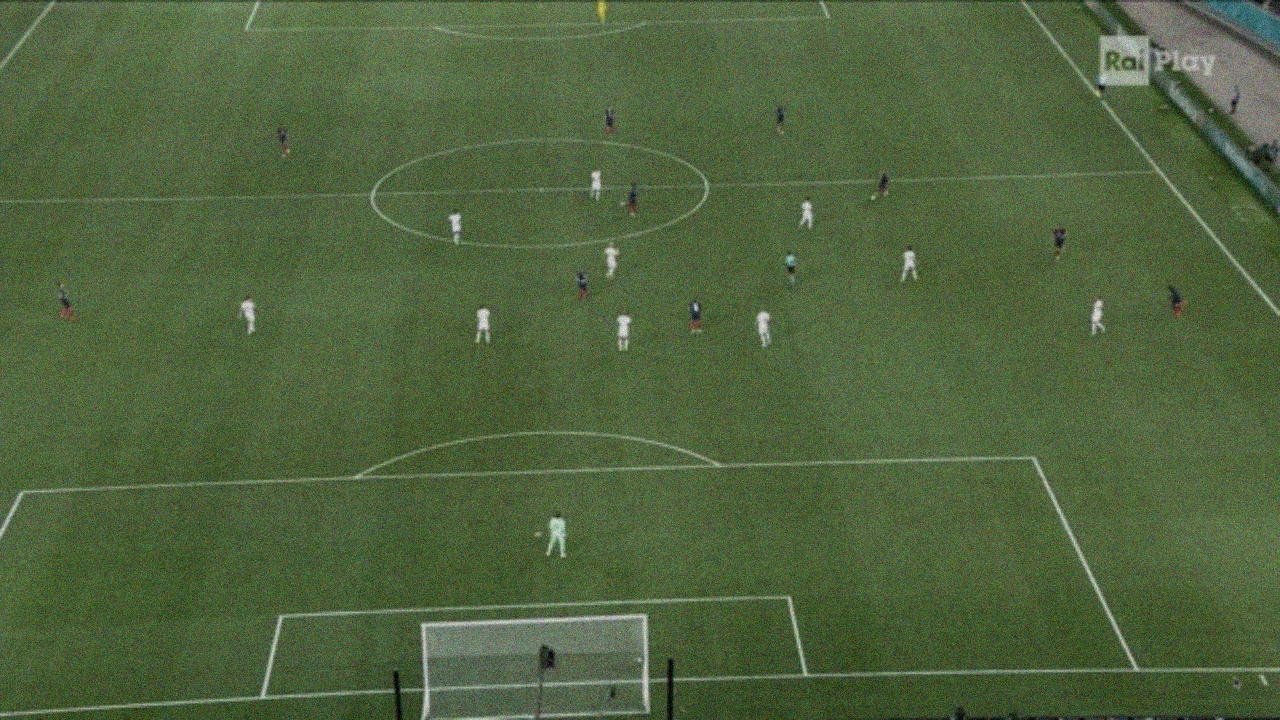ball: (868, 195, 878, 203)
goalkeeper: (546, 512, 569, 557), (594, 0, 609, 25)
player: (54, 279, 80, 323), (752, 303, 773, 349), (618, 180, 643, 218), (237, 294, 259, 337), (1167, 283, 1191, 322), (897, 245, 922, 282), (473, 303, 496, 343), (1047, 223, 1071, 261), (868, 169, 894, 204), (686, 295, 707, 335), (601, 239, 621, 281), (1089, 292, 1107, 338), (798, 194, 817, 232), (574, 264, 591, 305), (616, 308, 632, 351), (446, 207, 464, 245), (589, 165, 605, 204), (277, 122, 292, 161), (774, 100, 789, 137), (603, 102, 618, 139)
referee: (782, 249, 796, 290), (1094, 73, 1106, 99)
